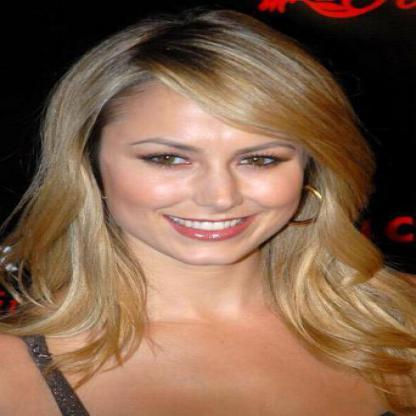long-hair: (10, 266, 401, 319)
